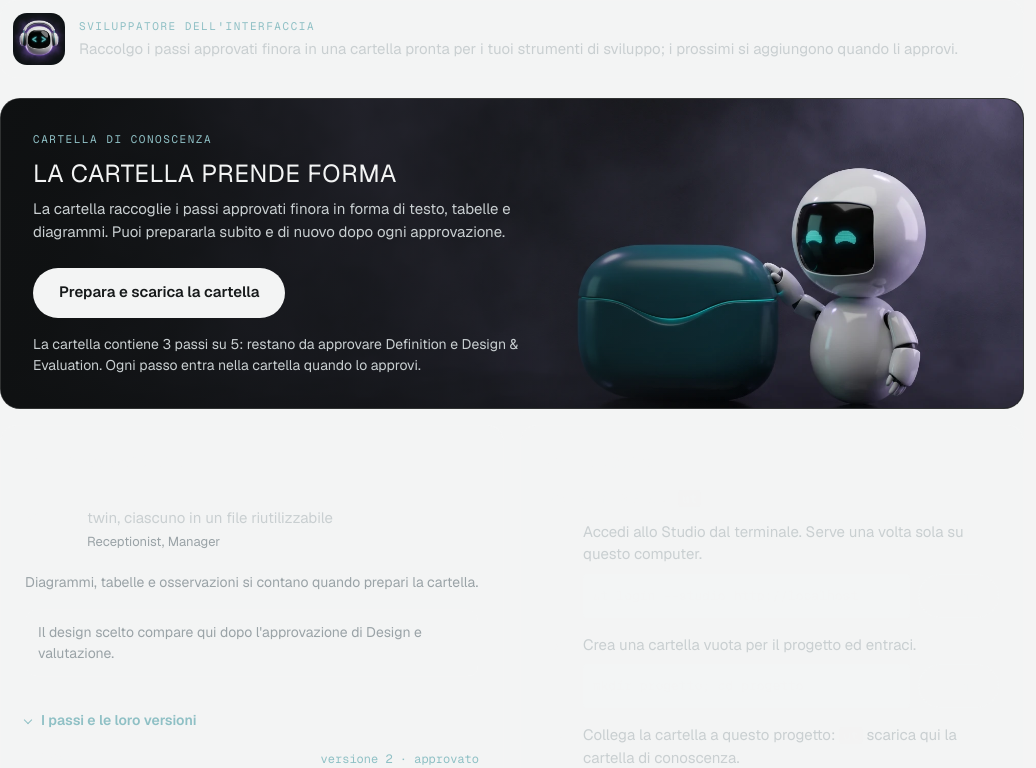
Scenario: ProjectDesignPackagePanel › publishes the approved steps before the others and says which ones are missing
Expected: the heading "La cartella prende forma" is shown, [33,156,397,188]
Expected: the element with test id "agent-message" shows "Raccolgo i passi approvati finora", [79,39,958,58]
What coordinates should you click on to do the following:
click the button with test id "download-package"
I would click on:
 (159, 292)
Its box is [33,268,285,318].
(page scrolled)
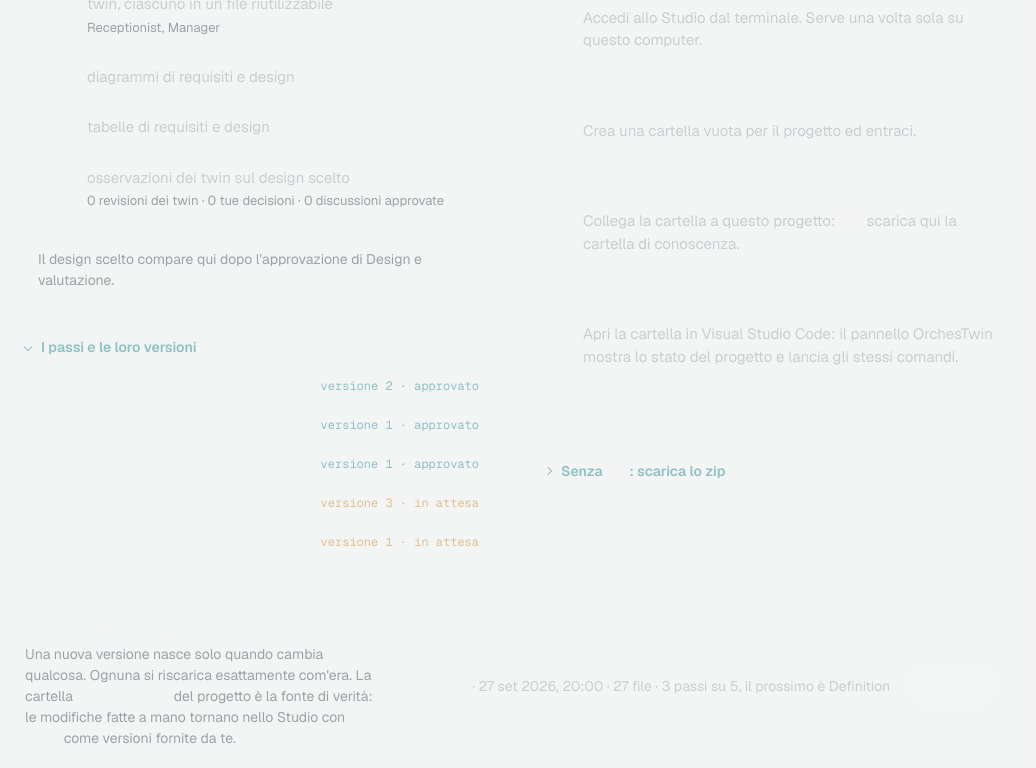
Expected: the text with test id "package-version-progress" reads "3 passi su 5, il prossimo è Definition", [662,677,890,695]
